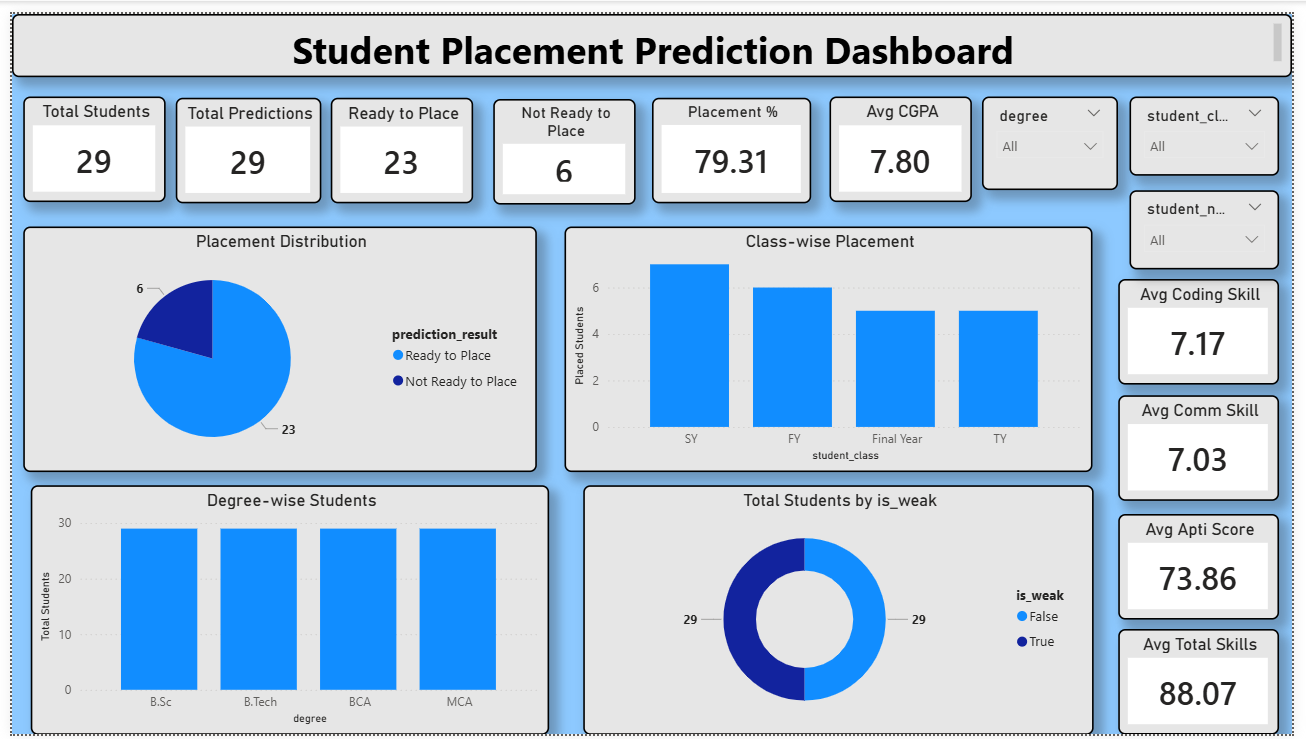

Layout of this report page (visuals, bound fields, positions):
{"tool":"powerbi","page":{"name":"Page 1","canvas":[1280,720],"ordinal":0},"visuals":[{"type":"textbox","box":[0,0,1280.3,63.1],"z":0},{"type":"cardVisual","title":"Total Students","fields":{"Data":["placement_database students.Total Students"]},"box":[11,82.3,142.7,105.7],"z":1000},{"type":"cardVisual","title":"Total Predictions","fields":{"Data":["placement_database predictions.Total Predictions"]},"box":[163.3,83.7,145.5,105.7],"z":2000},{"type":"cardVisual","title":"Ready to Place","fields":{"Data":["placement_database predictions.Total Placed"]},"box":[318.4,83.7,142.7,105.7],"z":3000},{"type":"cardVisual","title":"Not Ready to Place","fields":{"Data":["placement_database predictions.Not Placed Students"]},"box":[481.6,85.1,142.7,105.7],"z":4000},{"type":"cardVisual","title":"Placement %","fields":{"Data":["placement_database predictions.Placement Rate %"]},"box":[639.5,83.7,159.2,105.7],"z":5000},{"type":"cardVisual","title":"Avg CGPA","fields":{"Data":["placement_database predictions.Average CGPA"]},"box":[817.8,82.3,142.7,105.7],"z":6000},{"type":"pieChart","title":"Placement Distribution","fields":{"Category":["placement_database predictions.prediction_result"],"Y":["placement_database predictions.Total Predictions"]},"box":[11,212.7,513.2,245.6],"z":7000},{"type":"columnChart","title":"Degree-wise Students","fields":{"Category":["placement_database predictions.degree"],"Y":["placement_database students.Total Students"]},"box":[19.2,470.7,518.7,249.7],"z":8000},{"type":"clusteredColumnChart","title":"Class-wise Placement","fields":{"Y":["placement_database predictions.Placed Students"],"Category":["placement_database predictions.student_class"]},"box":[553,212.7,528.3,245.6],"z":9000},{"type":"cardVisual","title":"Avg Coding Skill","fields":{"Data":["placement_database predictions.Avg Coding Skills"]},"box":[1106,264.8,160.5,105.7],"z":10000},{"type":"cardVisual","title":"Avg Comm Skill","fields":{"Data":["placement_database predictions.Avg Communication Skills"]},"box":[1106,381.5,160.5,105.7],"z":11000},{"type":"cardVisual","title":"Avg Apti Score","fields":{"Data":["placement_database predictions.Avg Aptitude Score"]},"box":[1106,499.5,160.5,105.7],"z":12000},{"type":"cardVisual","title":"Avg Total Skills","fields":{"Data":["placement_database predictions.Average Total Skills"]},"box":[1106,614.8,160.5,105.7],"z":13000},{"type":"donutChart","fields":{"Category":["placement_database predictions.is_weak"],"Y":["placement_database students.Total Students"]},"box":[570.8,470.7,510.5,249.7],"z":14000},{"type":"slicer","fields":{"Values":["placement_database predictions.degree"]},"box":[970.2,82.3,135.8,93.3],"z":15000},{"type":"slicer","fields":{"Values":["placement_database predictions.student_class"]},"box":[1117,82.3,149.6,79.6],"z":16000},{"type":"slicer","fields":{"Values":["placement_database predictions.student_name"]},"box":[1117,175.6,149.6,79.6],"z":16001}]}

Visuals, with their boxes in screenshot pixels (x1, y1, x2, y2), scaled from the page's 1280x720 canvas onto the 1306x739 screenshot:
textbox: pyautogui.locateOnScreen(0, 0, 1305, 65)
"Total Students" cardVisual: pyautogui.locateOnScreen(11, 84, 157, 193)
"Total Predictions" cardVisual: pyautogui.locateOnScreen(167, 86, 315, 194)
"Ready to Place" cardVisual: pyautogui.locateOnScreen(325, 86, 470, 194)
"Not Ready to Place" cardVisual: pyautogui.locateOnScreen(491, 87, 637, 196)
"Placement %" cardVisual: pyautogui.locateOnScreen(652, 86, 815, 194)
"Avg CGPA" cardVisual: pyautogui.locateOnScreen(834, 84, 980, 193)
"Placement Distribution" pieChart: pyautogui.locateOnScreen(11, 218, 535, 470)
"Degree-wise Students" columnChart: pyautogui.locateOnScreen(20, 483, 549, 738)
"Class-wise Placement" clusteredColumnChart: pyautogui.locateOnScreen(564, 218, 1103, 470)
"Avg Coding Skill" cardVisual: pyautogui.locateOnScreen(1128, 272, 1292, 380)
"Avg Comm Skill" cardVisual: pyautogui.locateOnScreen(1128, 392, 1292, 500)
"Avg Apti Score" cardVisual: pyautogui.locateOnScreen(1128, 513, 1292, 621)
"Avg Total Skills" cardVisual: pyautogui.locateOnScreen(1128, 631, 1292, 738)
donutChart - placement_database predictions.is_weak x placement_database students.Total Students: pyautogui.locateOnScreen(582, 483, 1103, 738)
slicer - placement_database predictions.degree: pyautogui.locateOnScreen(990, 84, 1128, 180)
slicer - placement_database predictions.student_class: pyautogui.locateOnScreen(1140, 84, 1292, 166)
slicer - placement_database predictions.student_name: pyautogui.locateOnScreen(1140, 180, 1292, 262)
